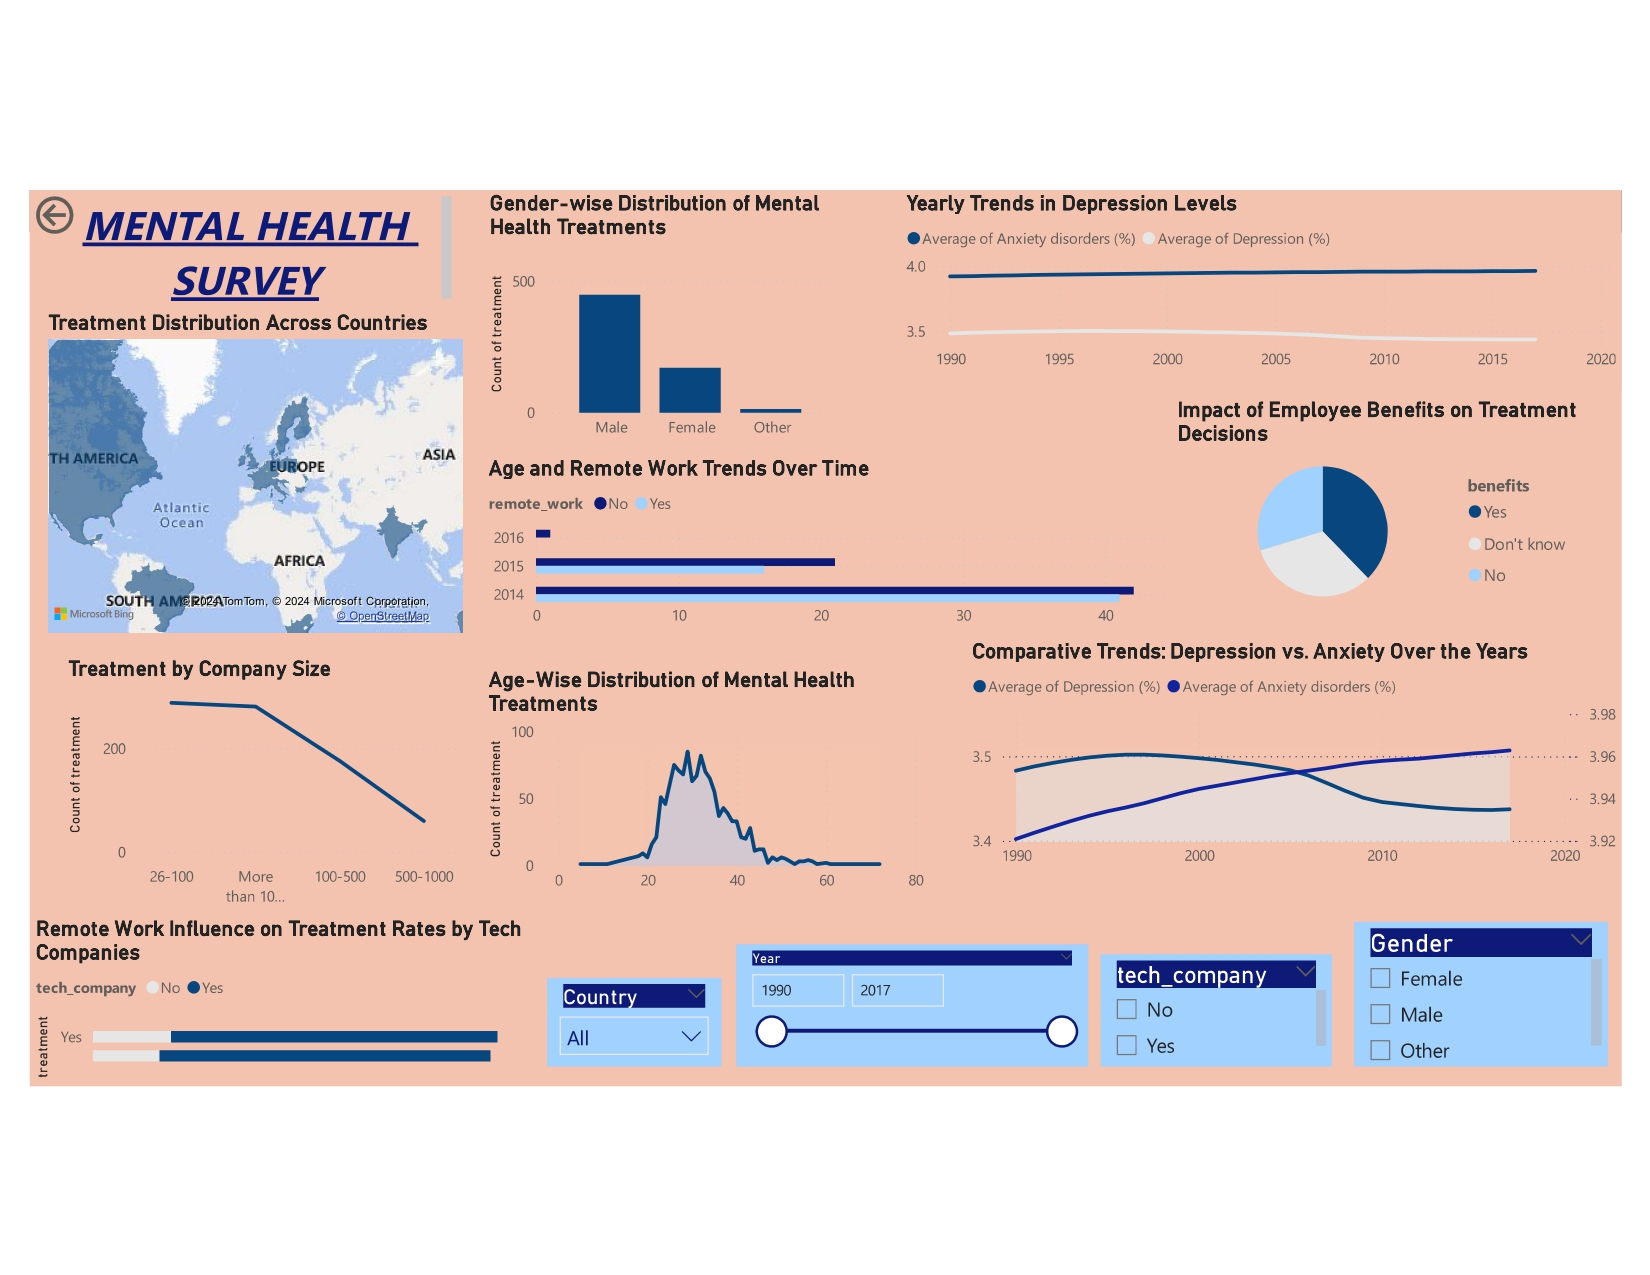

What the dashboard file says about the page in this screenshot:
{"tool":"powerbi","page":{"name":"Page 1","canvas":[1280,720],"ordinal":0},"visuals":[{"type":"textbox","box":[10,0,333.8,95],"z":0},{"type":"filledMap","title":"Treatment Distribution Across Countries","fields":{"Category":["mental_health tech_survey.Country"],"Series":["mental_health tech_survey.treatment"]},"box":[10,96.2,342.5,263.8],"z":1000},{"type":"clusteredColumnChart","title":"Gender-wise Distribution of Mental Health Treatments","fields":{"Category":["mental_health tech_survey.Gender"],"Y":["CountNonNull(mental_health tech_survey.treatment)"]},"box":[365,0,288.8,208.8],"z":2000},{"type":"barChart","title":"Remote Work Influence on Treatment Rates by Tech Companies","fields":{"Y":["CountNonNull(mental_health tech_survey.remote_work)"],"Category":["mental_health tech_survey.treatment"],"Series":["mental_health tech_survey.tech_company"]},"box":[0,582.9,415.7,137.1],"z":3000},{"type":"lineChart","title":"Yearly Trends in Depression Levels","fields":{"Category":["mental_health depression (2).Year"],"Y":["Avg(mental_health depression (2).Anxiety disorders (%))","Avg(mental_health depression (2).Depression (%))"]},"box":[700,0,580,154.3],"z":4000},{"type":"lineChart","title":"Age-Wise Distribution of Mental Health Treatments","fields":{"Category":["mental_health tech_survey.Age"],"Y":["CountNonNull(mental_health tech_survey.treatment)"]},"box":[364.3,382.9,362.9,190],"z":5000},{"type":"lineChart","title":"Treatment by Company Size","fields":{"Category":["mental_health tech_survey.no_employees"],"Y":["CountNonNull(mental_health tech_survey.treatment)"]},"box":[25.7,374.3,327.1,208.6],"z":6000},{"type":"pieChart","title":"Impact of Employee Benefits on Treatment Decisions","fields":{"Category":["mental_health tech_survey.benefits"],"Y":["CountNonNull(mental_health tech_survey.treatment)"]},"box":[917.5,166.2,331.2,178.8],"z":7000},{"type":"areaChart","title":"Comparative Trends: Depression vs. Anxiety Over the Years","fields":{"Category":["mental_health depression (2).Year"],"Y":["Avg(mental_health depression (2).Depression (%))"],"Y2":["Avg(mental_health depression (2).Anxiety disorders (%))"]},"box":[752.9,360,527.1,192.9],"z":8000},{"type":"slicer","fields":{"Values":["mental_health tech_survey.Gender"]},"box":[1065,587.5,203.8,116.2],"z":9000},{"type":"actionButton","box":[0,0,100,40],"z":10000},{"type":"slicer","fields":{"Values":["mental_health tech_survey.tech_company"]},"box":[861.4,614.3,185.7,90],"z":11000},{"type":"slicer","fields":{"Values":["mental_health depression (2).Year"]},"box":[567.5,606.2,283.8,97.5],"z":12000},{"type":"slicer","fields":{"Values":["mental_health tech_survey.Country"]},"box":[415.7,632.9,140,71.4],"z":13000},{"type":"clusteredBarChart","title":"Age and Remote Work Trends Over Time","fields":{"Category":["mental_health tech_survey.Date_entry.Variation.Date Hierarchy.Year"],"Series":["mental_health tech_survey.remote_work"],"Y":["Count(mental_health tech_survey.Age)"]},"box":[364.3,212.9,568.6,147.1],"z":14000}]}

Visuals, with their boxes on the page's 1280x720 design canvas (x1, y1, x2, y2). These are canvas units, not pixel positions in the 1650x1275 screenshot, which may show the page scaled, cropped or inside an application window:
textbox: rect(10, 0, 344, 95)
"Treatment Distribution Across Countries" filledMap: rect(10, 96, 352, 360)
"Gender-wise Distribution of Mental Health Treatments" clusteredColumnChart: rect(365, 0, 654, 209)
"Remote Work Influence on Treatment Rates by Tech Companies" barChart: rect(0, 583, 416, 720)
"Yearly Trends in Depression Levels" lineChart: rect(700, 0, 1280, 154)
"Age-Wise Distribution of Mental Health Treatments" lineChart: rect(364, 383, 727, 573)
"Treatment by Company Size" lineChart: rect(26, 374, 353, 583)
"Impact of Employee Benefits on Treatment Decisions" pieChart: rect(918, 166, 1249, 345)
"Comparative Trends: Depression vs. Anxiety Over the Years" areaChart: rect(753, 360, 1280, 553)
slicer - mental_health tech_survey.Gender: rect(1065, 588, 1269, 704)
actionButton: rect(0, 0, 100, 40)
slicer - mental_health tech_survey.tech_company: rect(861, 614, 1047, 704)
slicer - mental_health depression (2).Year: rect(568, 606, 851, 704)
slicer - mental_health tech_survey.Country: rect(416, 633, 556, 704)
"Age and Remote Work Trends Over Time" clusteredBarChart: rect(364, 213, 933, 360)
